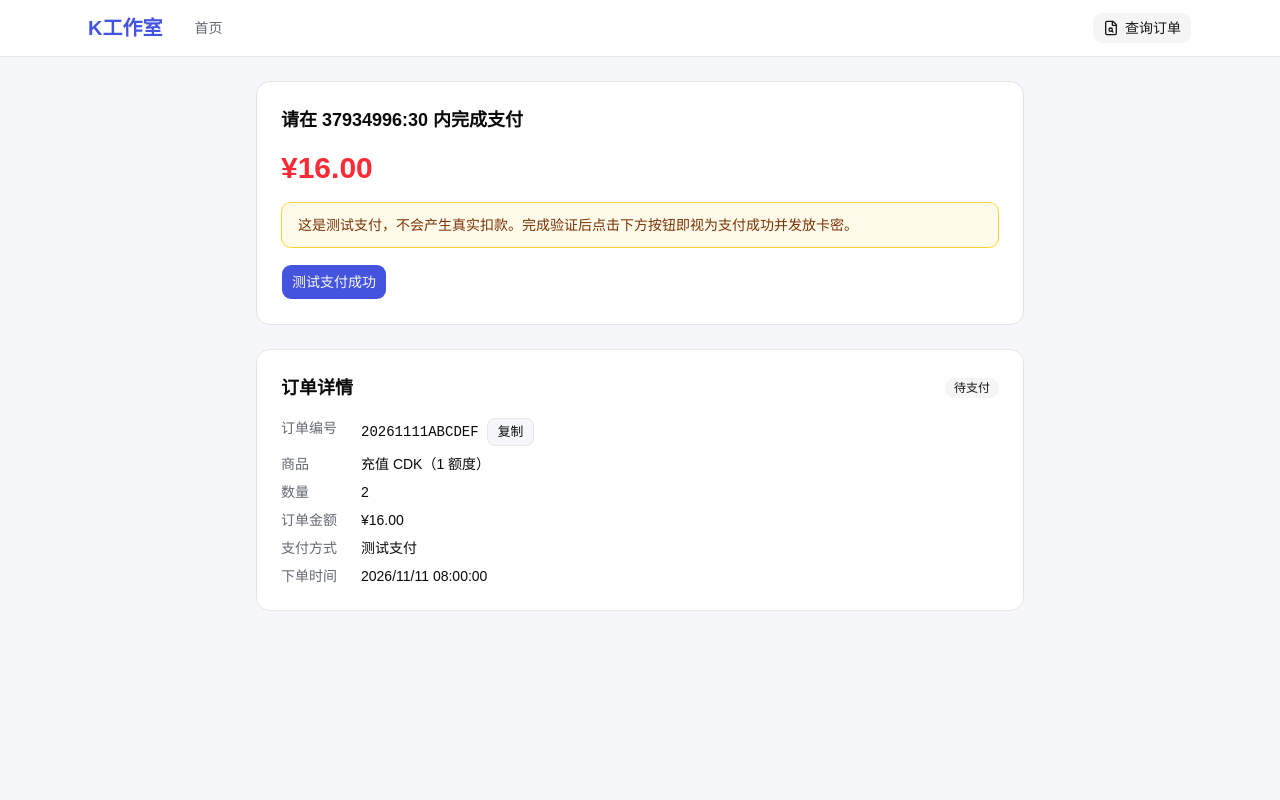
Test: settles a mock order from the payment page
The image size is (1280, 800).
Click the button "测试支付成功".
click(334, 282)  # box [281,264,387,300]
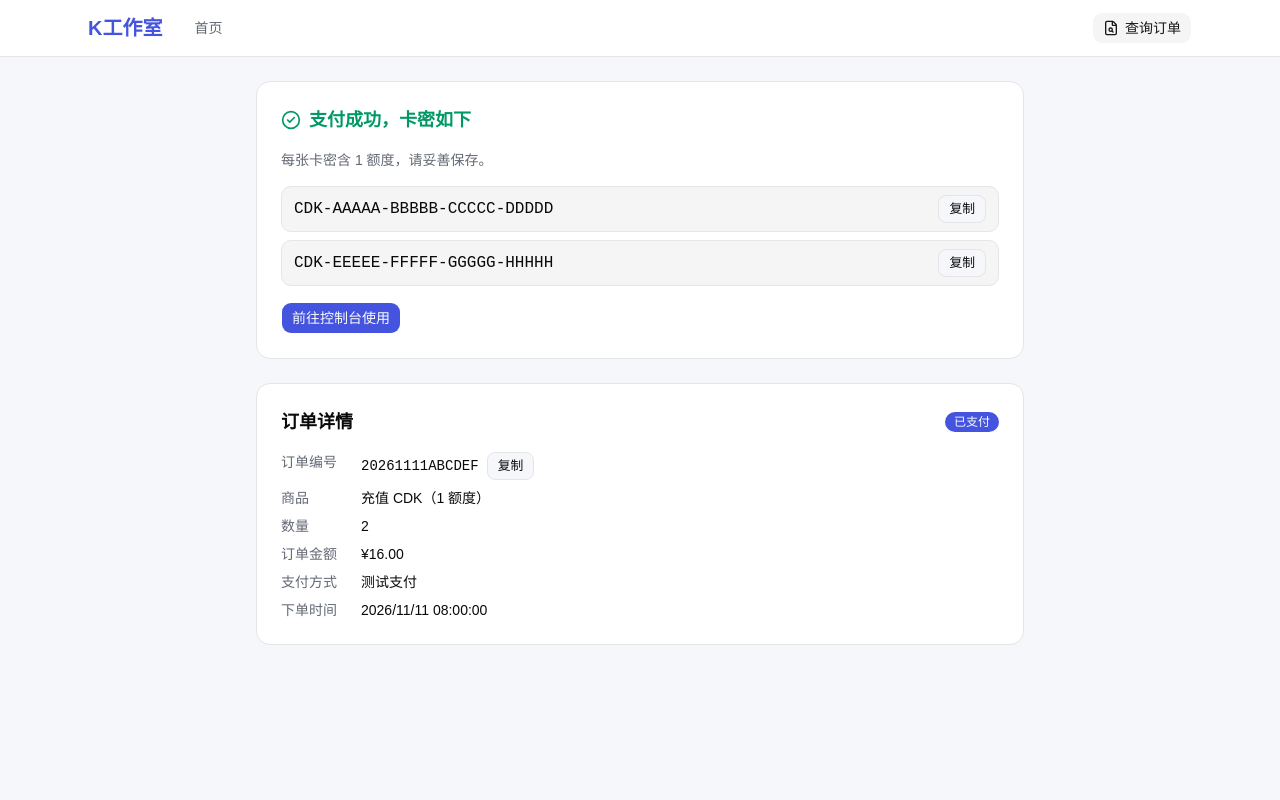
Now the text "CDK-AAAAA-BBBBB-CCCCC-DDDDD" is shown, box [294,197,553,221]
